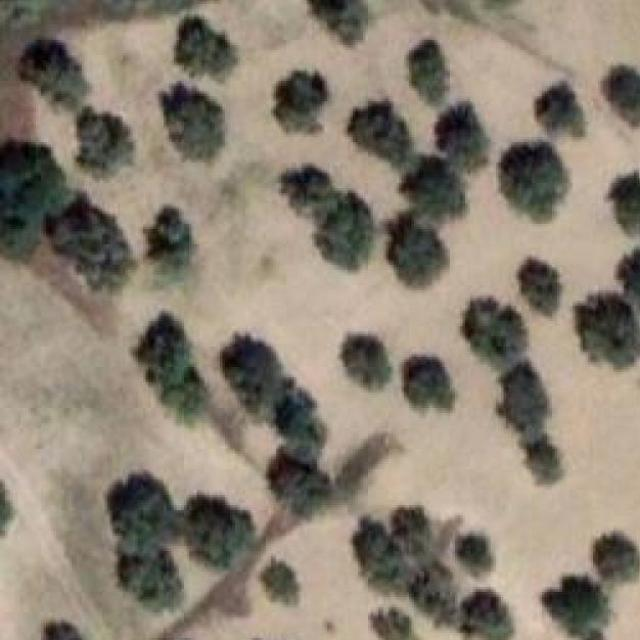Tree: (0, 139, 71, 261), (46, 198, 134, 292), (356, 510, 435, 584), (104, 472, 177, 548), (223, 329, 288, 411), (399, 155, 472, 224), (572, 295, 640, 369), (504, 140, 566, 221), (18, 40, 92, 107), (187, 495, 253, 568), (118, 549, 189, 615), (162, 81, 230, 149), (77, 106, 143, 174), (266, 452, 330, 519), (316, 196, 377, 265), (434, 101, 495, 170), (135, 314, 195, 384), (460, 298, 525, 362), (177, 17, 241, 80), (348, 101, 413, 163), (268, 68, 328, 131), (545, 577, 610, 635), (385, 221, 444, 281), (271, 380, 328, 441), (494, 362, 546, 421), (278, 166, 336, 218), (522, 258, 572, 318), (399, 355, 460, 404), (598, 63, 640, 134), (147, 208, 200, 264), (343, 335, 397, 389), (534, 84, 584, 140), (407, 40, 455, 98), (162, 367, 212, 420), (591, 530, 640, 584), (317, 0, 376, 44), (417, 572, 458, 628), (460, 592, 509, 635), (455, 530, 498, 578), (258, 562, 304, 606), (608, 173, 640, 236), (618, 239, 640, 313), (373, 605, 417, 640), (530, 446, 564, 486), (511, 421, 546, 450), (39, 620, 83, 640), (586, 630, 613, 640), (157, 635, 210, 640)
